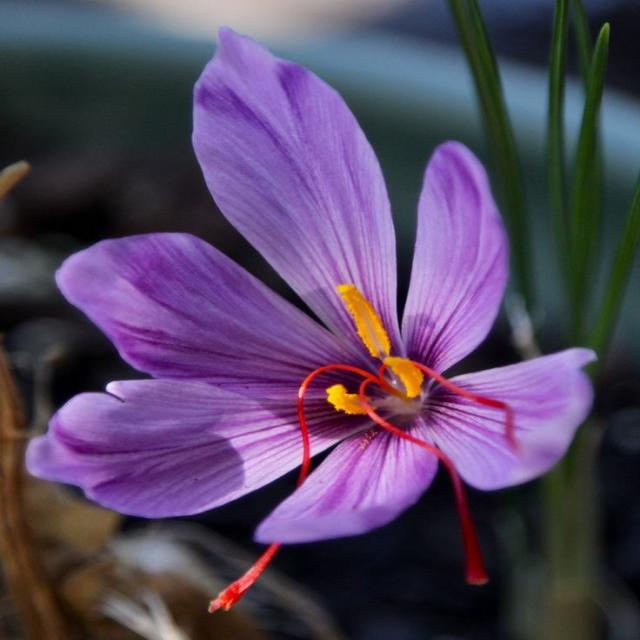Flower: (29, 33, 591, 542)
stigma: (356, 378, 496, 591), (294, 360, 388, 490), (413, 360, 527, 457), (202, 542, 274, 619)
